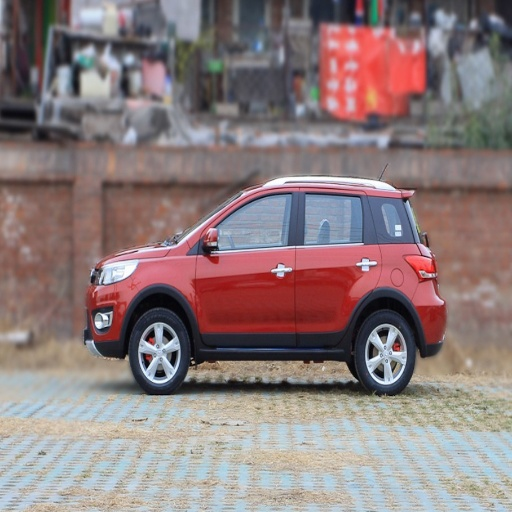back_left_door: (297, 186, 380, 344)
front_left_door: (195, 187, 298, 344)
